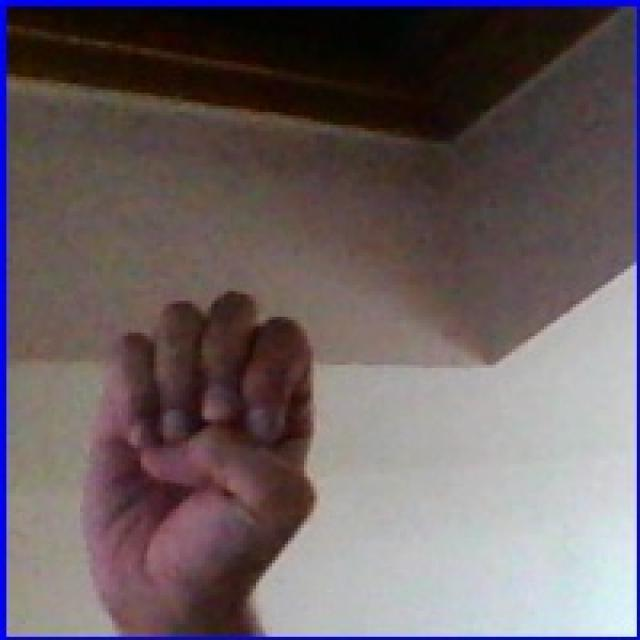Letra E: (46, 255, 340, 629)
